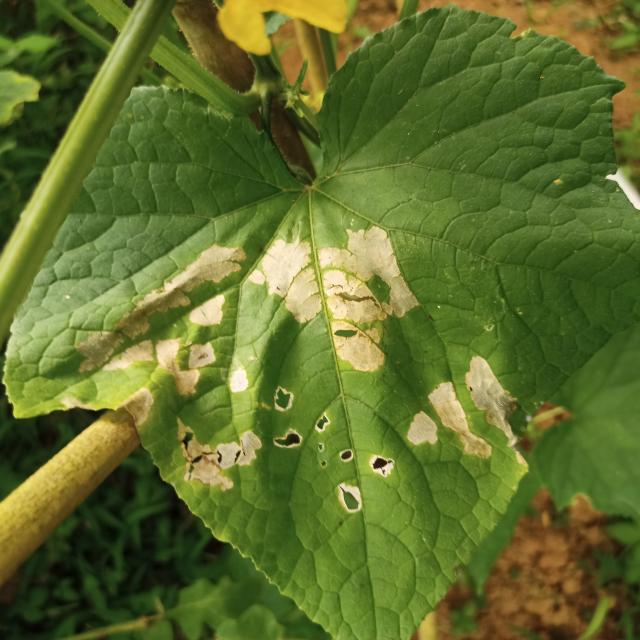disease_cucumber: (80, 223, 524, 513)
